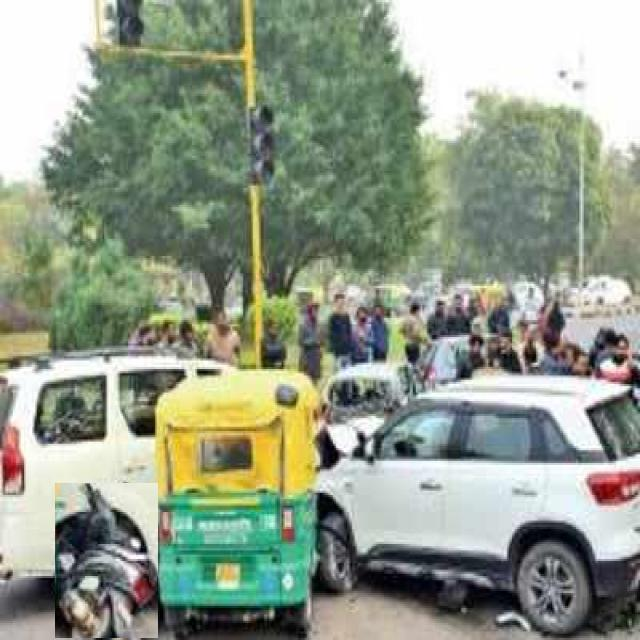accident: (320, 377, 640, 632), (0, 355, 232, 576), (55, 484, 158, 638), (322, 363, 414, 456)
autorickshaw: (155, 370, 315, 628)
